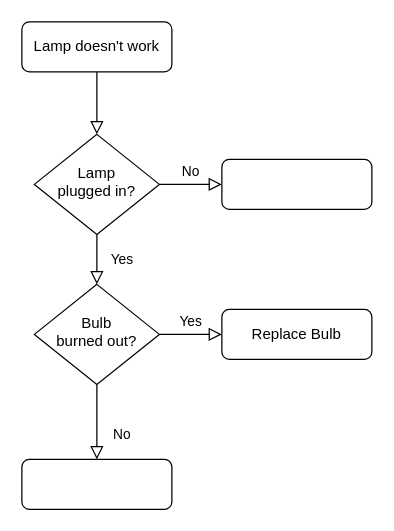
The diagram is 394 pixels wide and 531 high, and some of its shapes have lost their labels. The shapes that lost their labels are listed below. From the top down, each one's box as (x1, y1, x2, y2) in pixels, then its label:
(221, 158, 372, 209): hbiohnpoi
(21, 458, 172, 509): Repair Lamp
